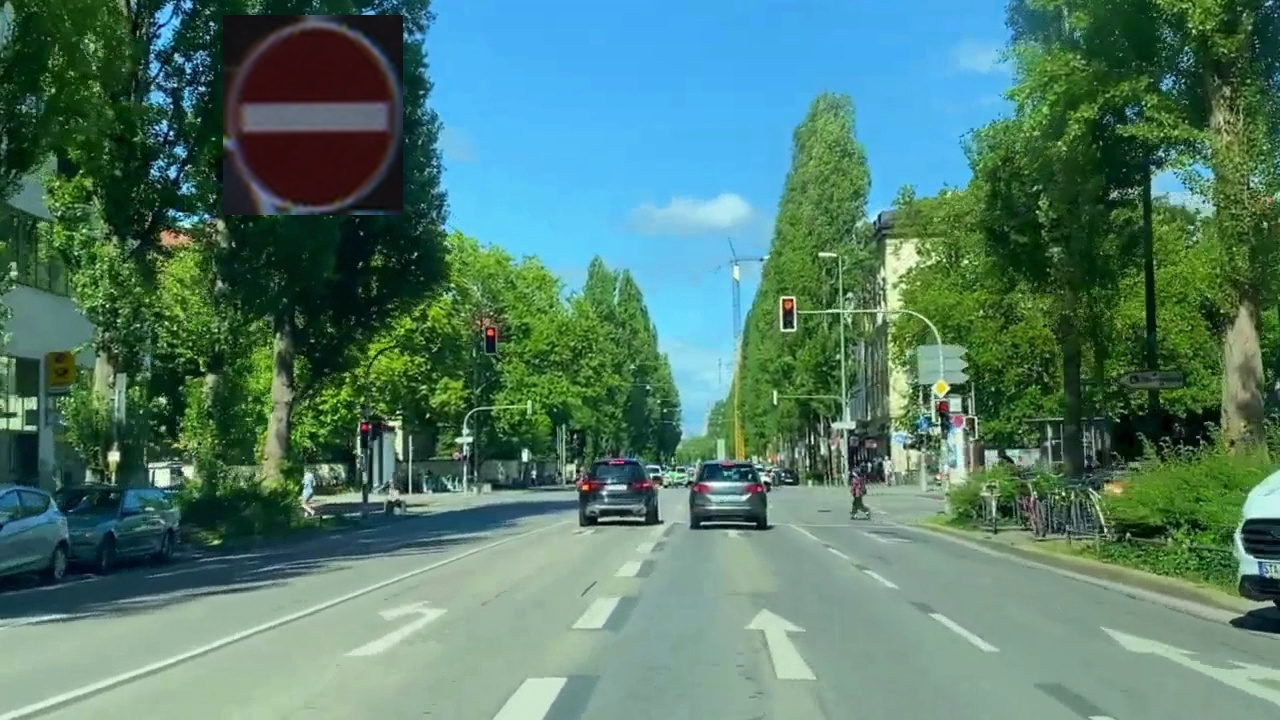No entry: (223, 15, 403, 215)
